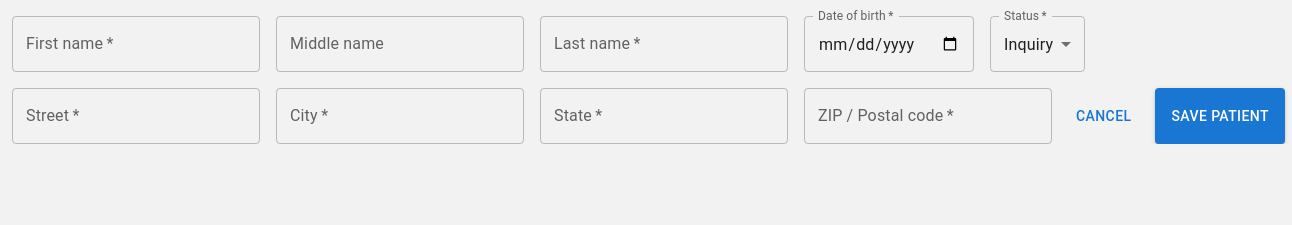
Scenario: PatientForm › shows error if address fields are missing
The width and height of the screenshot is (1292, 225).
Type "John" into the field labelled "First name *".
click(136, 44); type("John")  # box [12,16,260,72]
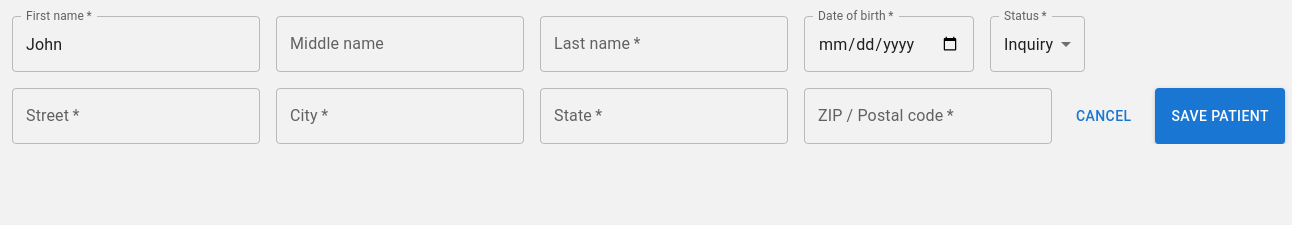
Type "Doe" into the field labelled "Last name *".
click(664, 44); type("Doe")  # box [540,16,788,72]
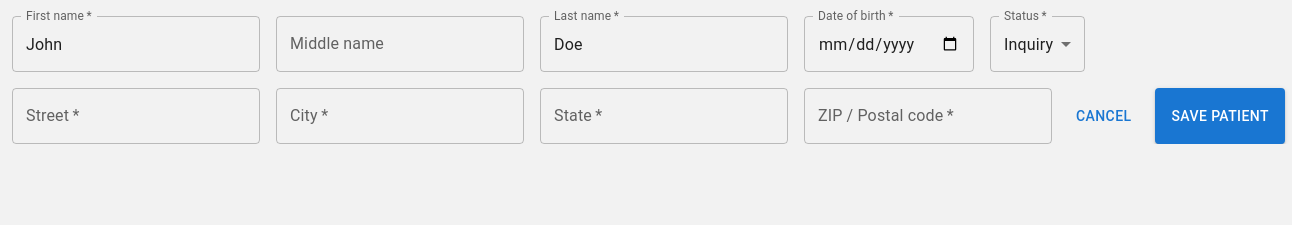
Type "2000-01-01" into the date field labelled "Date of birth *".
click(889, 44); type("2000-01-01")  # box [804,16,974,72]
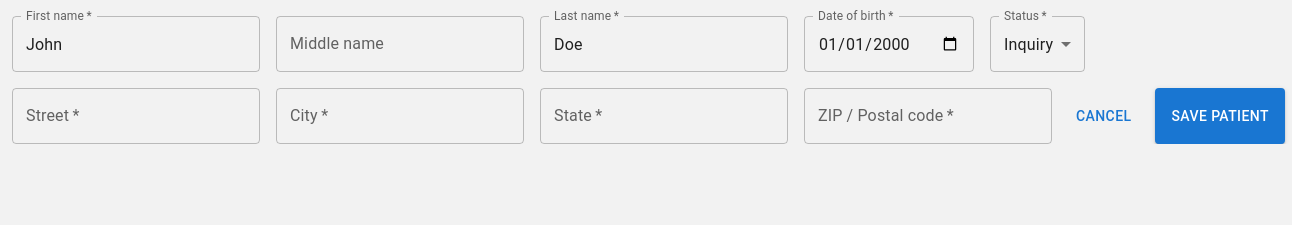
Submit the form, box [12,16,1291,144]
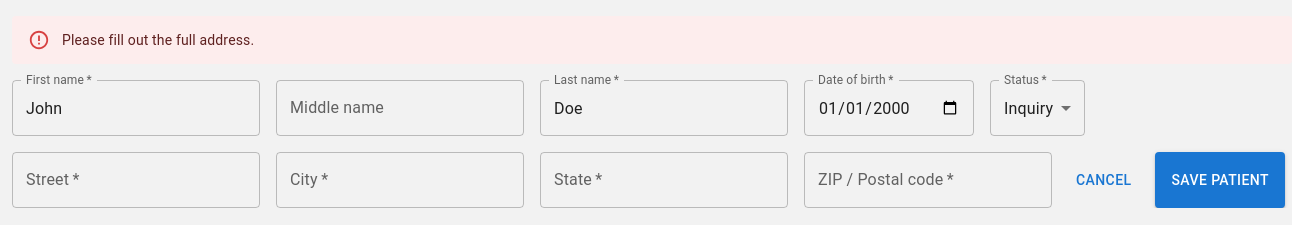
Result: the text "Please fill out the full address." is shown at [62,32,254,48]
